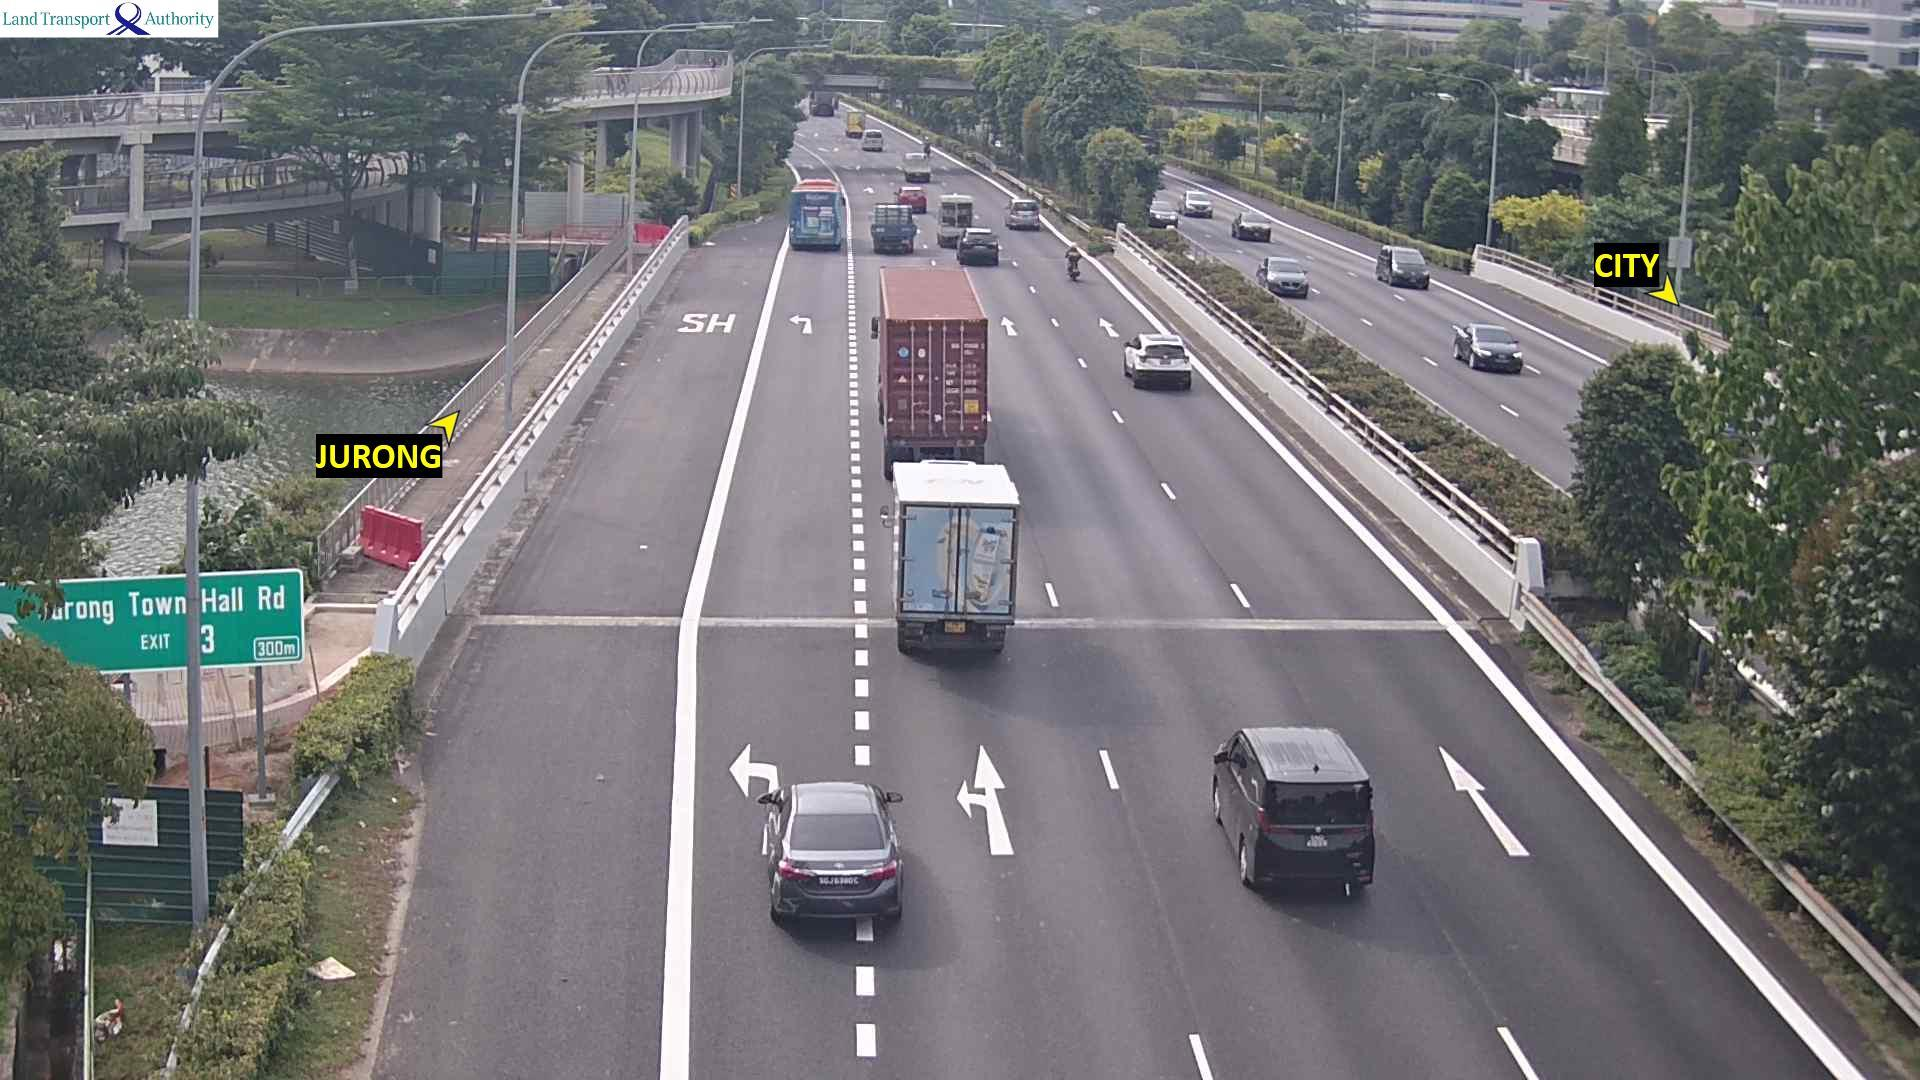bus: (787, 179, 844, 251)
cars: (1209, 724, 1375, 898), (756, 779, 905, 928), (1122, 331, 1192, 390), (1451, 320, 1523, 373), (1374, 244, 1429, 289), (1255, 255, 1309, 298), (955, 225, 1000, 266), (1232, 207, 1273, 243), (1004, 196, 1040, 229), (893, 183, 926, 214), (1147, 198, 1179, 228), (1182, 189, 1213, 218), (860, 128, 884, 152)
motorcycle: (1065, 253, 1083, 281), (920, 136, 935, 158)
trucks: (885, 458, 1022, 657), (869, 264, 990, 480), (868, 200, 918, 253), (935, 193, 973, 247), (901, 150, 932, 182), (807, 90, 837, 115), (845, 111, 864, 137)
